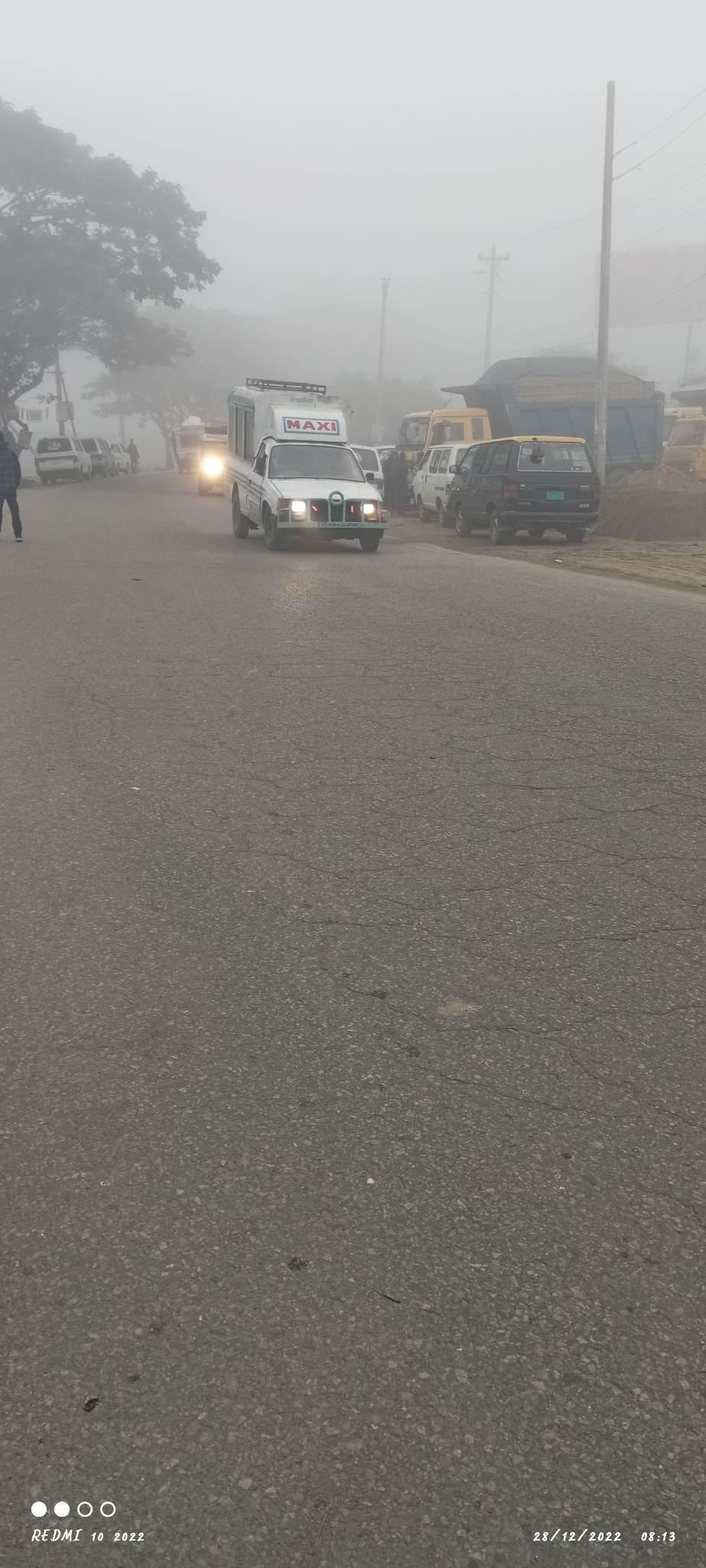Car: (216, 364, 405, 575), (442, 413, 617, 566), (412, 435, 468, 521), (35, 429, 104, 484)
